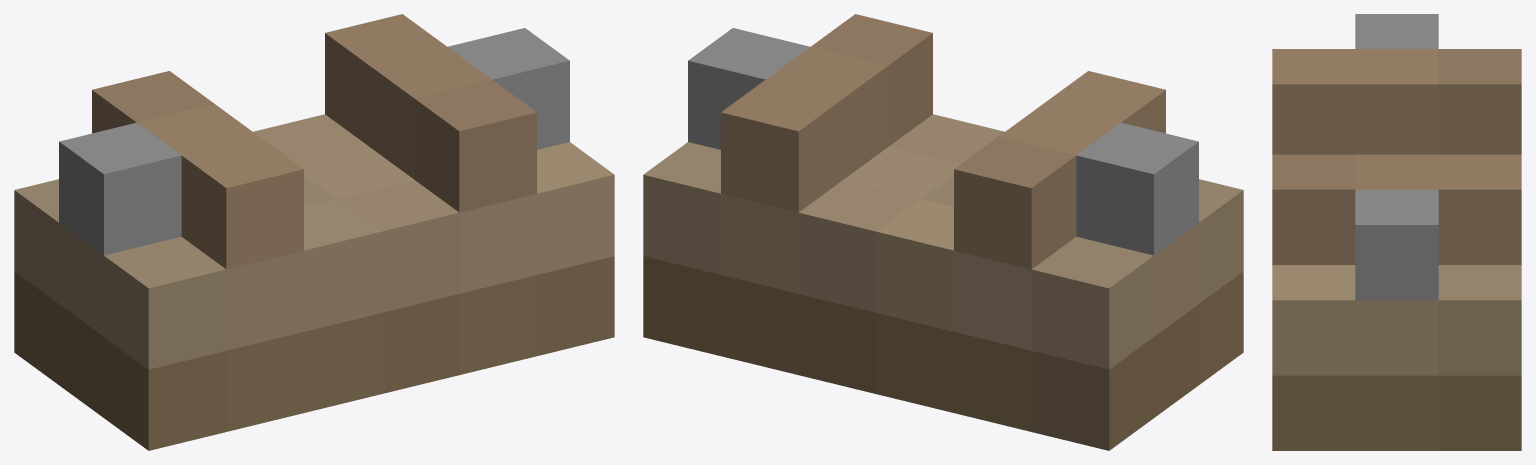
The model's file is storage_shelf.glb.
The picture shows the model from 3 angles, left to right: view 1: azimuth 30°, elevation 25°; view 2: azimuth 150°, elevation 25°; view 3: azimuth 270°, elevation 25°; orthographic projection. The views are drawn at different scales.
Parts seen in each view (by area): view 1: storage_shelf_item; view 2: storage_shelf_item; view 3: storage_shelf_item.
Part boxes in pixels (box(x1,y1,x2,y2)): storage_shelf_item: box(14, 14, 614, 450); storage_shelf_item: box(643, 14, 1243, 450); storage_shelf_item: box(1272, 14, 1521, 450).
Size of the model in its own units: 0.75 by 0.375 by 0.375.
